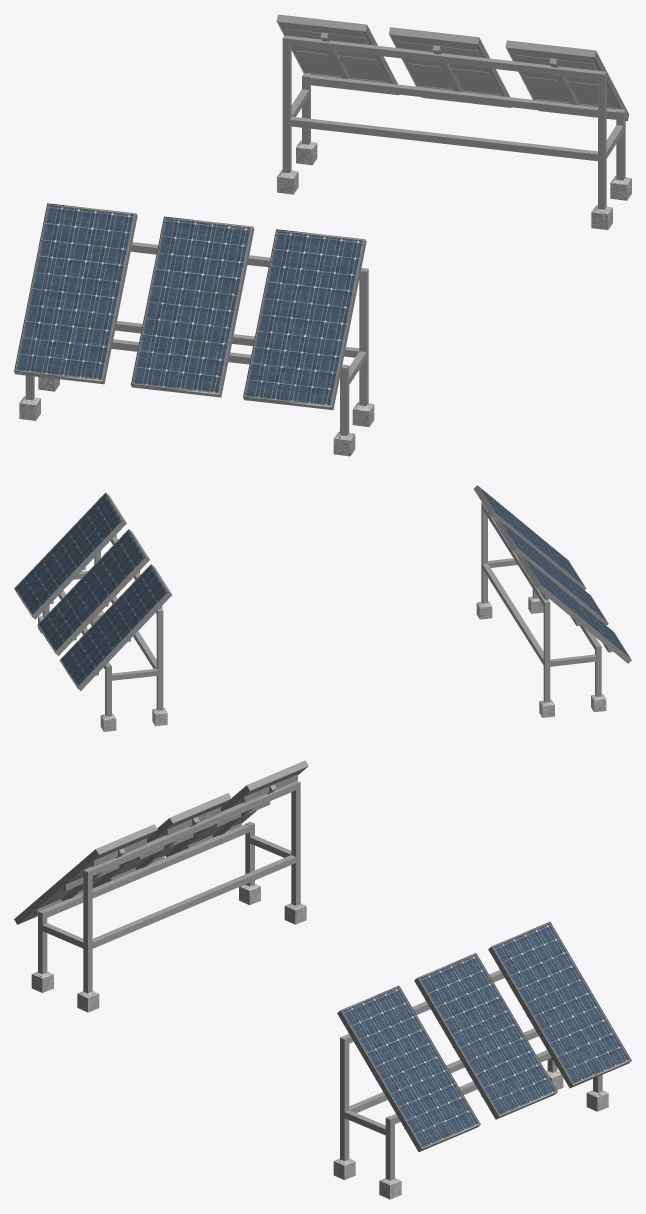
The model's file is Solar_Panels.fbx.
3 renders of one model, top to bottom at view 1: azimuth 30°, elevation 25°; view 2: azimuth 150°, elevation 25°; view 3: azimuth 270°, elevation 25°, orthographic. The views are drawn at different scales.
Visible parts, largest first — view 1: solar_panel_02, solar_panel_01, solar_panel_03, Metal_Stand_02, solar_panel_05, solar_panel_06, solar_panel_04, Metal_Stand_01, Concrete_Blocks_02, Concrete_Blocks_01; view 2: solar_panel_04, solar_panel_06, solar_panel_05, Metal_Stand_01, Metal_Stand_02, solar_panel_01, solar_panel_02, solar_panel_03, Concrete_Blocks_01, Concrete_Blocks_02; view 3: solar_panel_05, solar_panel_06, solar_panel_04, Metal_Stand_01, Metal_Stand_02, solar_panel_03, solar_panel_01, solar_panel_02, Concrete_Blocks_01, Concrete_Blocks_02.
Part boxes in pixels (box(x1,y1,x2,y2)): solar_panel_02: box(130, 216, 254, 397); solar_panel_01: box(14, 203, 137, 384); solar_panel_03: box(243, 229, 366, 410); Metal_Stand_02: box(282, 35, 625, 209); solar_panel_05: box(389, 27, 510, 107); solar_panel_06: box(276, 14, 398, 95); solar_panel_04: box(505, 40, 629, 120); Metal_Stand_01: box(25, 242, 368, 435); Concrete_Blocks_02: box(277, 140, 631, 229); Concrete_Blocks_01: box(19, 377, 374, 456); solar_panel_04: box(14, 492, 126, 619); solar_panel_06: box(59, 564, 171, 690); solar_panel_05: box(37, 529, 149, 655); Metal_Stand_01: box(481, 502, 601, 702); Metal_Stand_02: box(42, 537, 163, 716); solar_panel_01: box(519, 557, 631, 663); solar_panel_02: box(496, 520, 608, 625); solar_panel_03: box(474, 485, 586, 590); Concrete_Blocks_01: box(476, 596, 606, 717); Concrete_Blocks_02: box(38, 610, 167, 731); solar_panel_05: box(414, 953, 557, 1119); solar_panel_06: box(488, 922, 631, 1088); solar_panel_04: box(337, 985, 480, 1151); Metal_Stand_01: box(38, 781, 300, 993); Metal_Stand_02: box(340, 970, 602, 1180); solar_panel_03: box(14, 824, 157, 924); solar_panel_01: box(165, 760, 308, 857); solar_panel_02: box(92, 793, 231, 888); Concrete_Blocks_01: box(31, 884, 306, 1012); Concrete_Blocks_02: box(333, 1070, 608, 1199).
Bounding box in the file's own units: 1871 × 446 × 1532.
